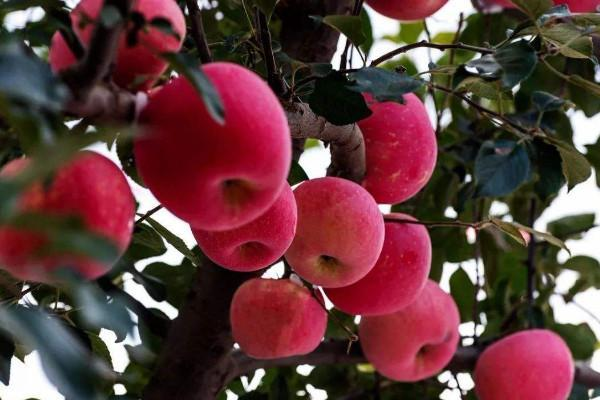apple: (140, 61, 292, 233), (1, 149, 137, 287), (282, 177, 386, 288), (327, 214, 434, 315), (189, 182, 298, 270), (361, 293, 461, 382), (229, 277, 330, 359), (472, 329, 578, 398)
